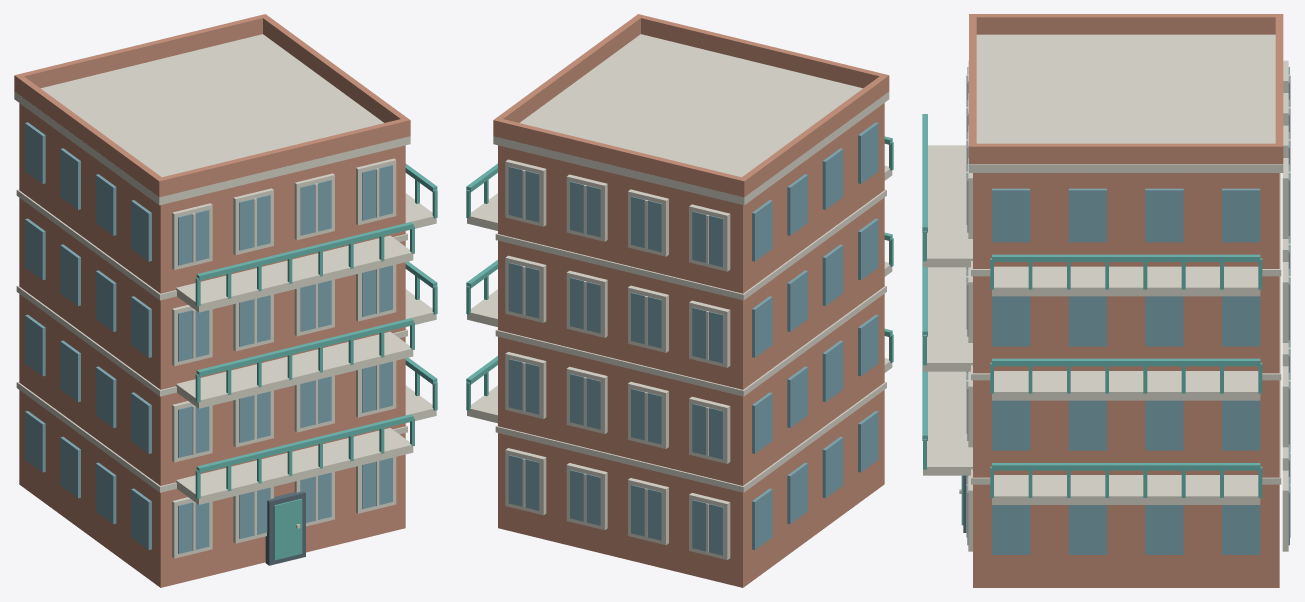
3 views of the same model, side by side, from view 1: azimuth 30°, elevation 25°; view 2: azimuth 150°, elevation 25°; view 3: azimuth 270°, elevation 25° (orthographic). The views are drawn at different scales.
Parts seen in each view (by area): view 1: corner-tenement-brick, corner-tenement-concrete, corner-tenement-glass, corner-tenement-accent, corner-tenement-dark; view 2: corner-tenement-brick, corner-tenement-concrete, corner-tenement-glass, corner-tenement-accent; view 3: corner-tenement-brick, corner-tenement-concrete, corner-tenement-glass, corner-tenement-accent.
Boxes of the visible parts, x1,y1,x2,y2 form: corner-tenement-brick: (14,14,410,587); corner-tenement-concrete: (14,34,436,558); corner-tenement-glass: (25,122,392,553); corner-tenement-accent: (195,163,437,560); corner-tenement-dark: (265,491,305,565); corner-tenement-brick: (493,14,889,587); corner-tenement-concrete: (467,34,892,560); corner-tenement-glass: (508,122,878,555); corner-tenement-accent: (466,136,893,410); corner-tenement-brick: (969,14,1283,587); corner-tenement-concrete: (923,34,1290,551); corner-tenement-glass: (967,67,1289,554); corner-tenement-accent: (922,114,1262,525).
Size of the model in its own units: 9.43 by 12.75 by 9.62.
